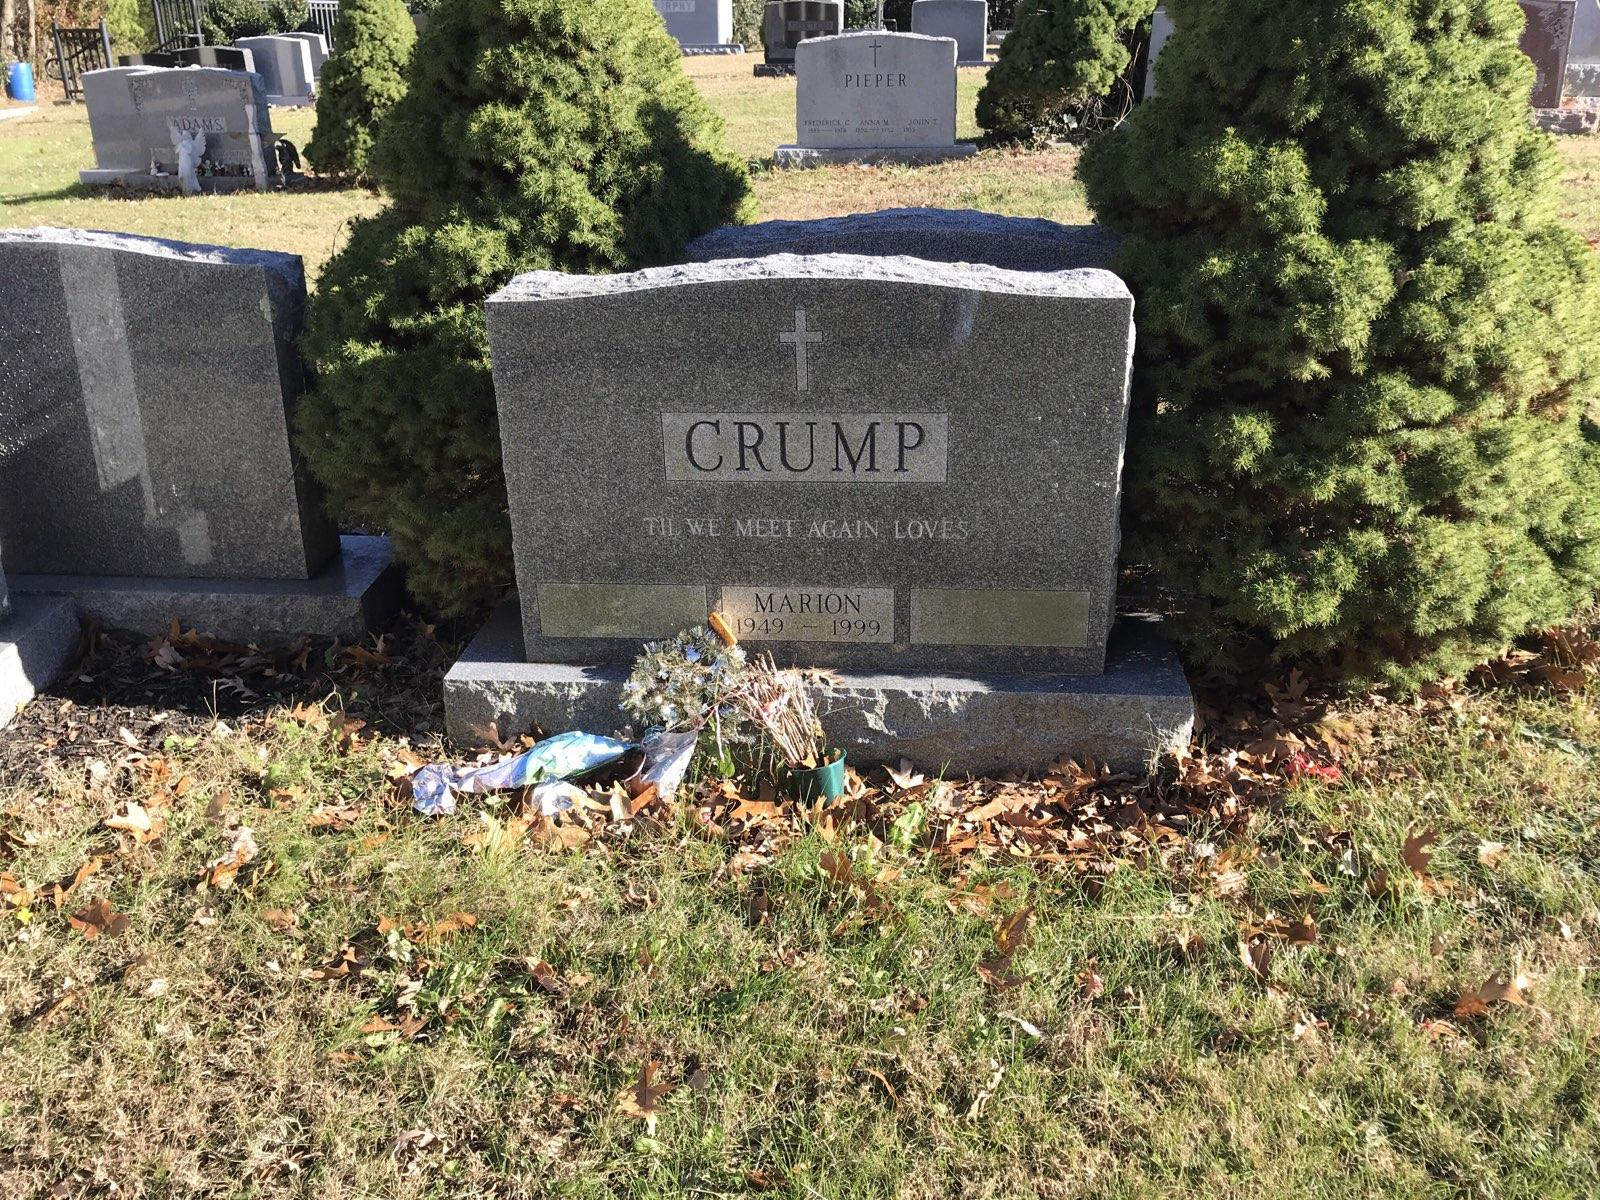upright: (387, 255, 1243, 785)
